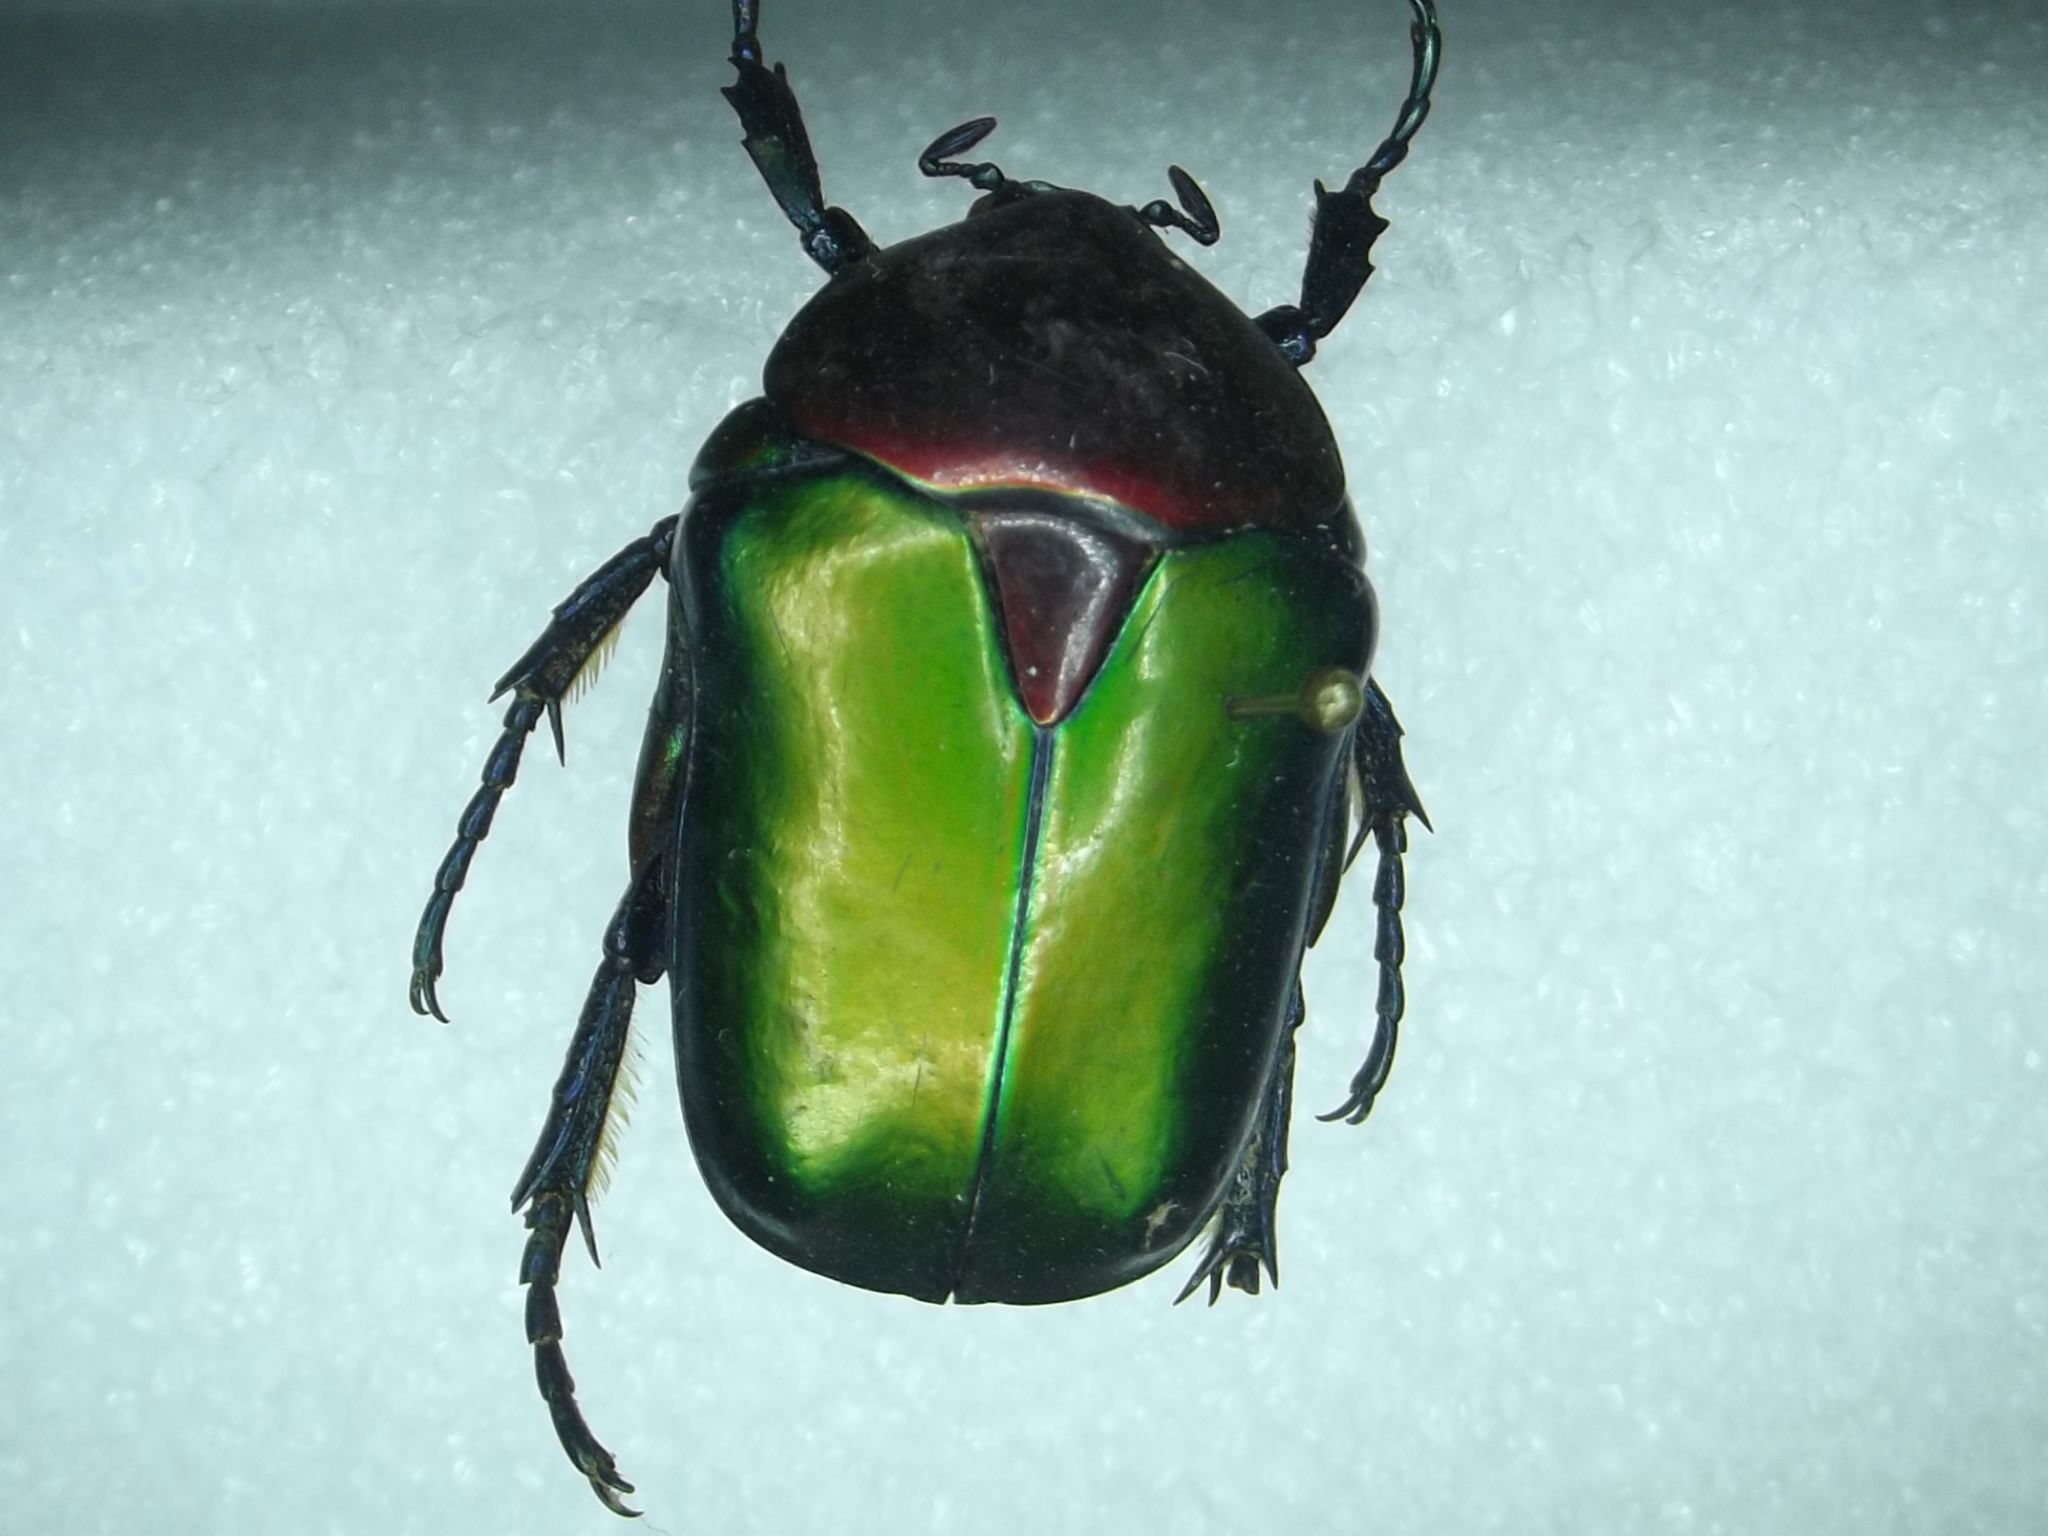Protaetia_speciosa_jousselini: (376, 2, 1445, 1499)
